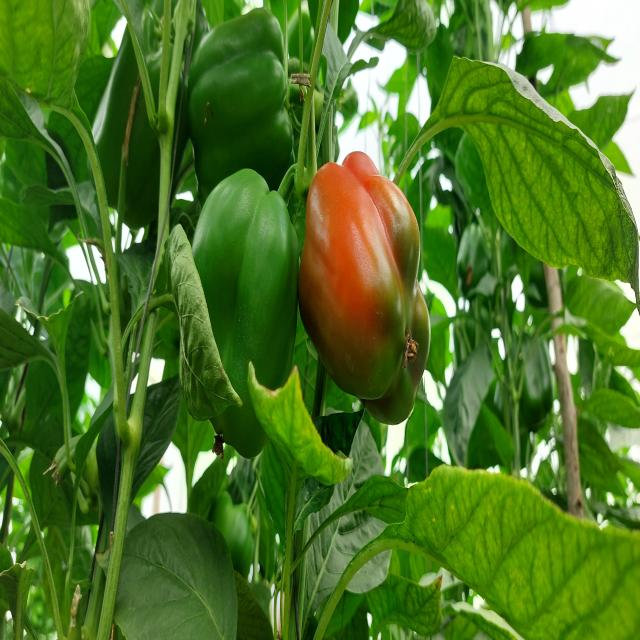BrownishRed--Can-be-Harvested: (309, 159, 432, 430)
Green--Not-ready-to-harvest: (190, 180, 300, 461), (180, 19, 308, 175)
